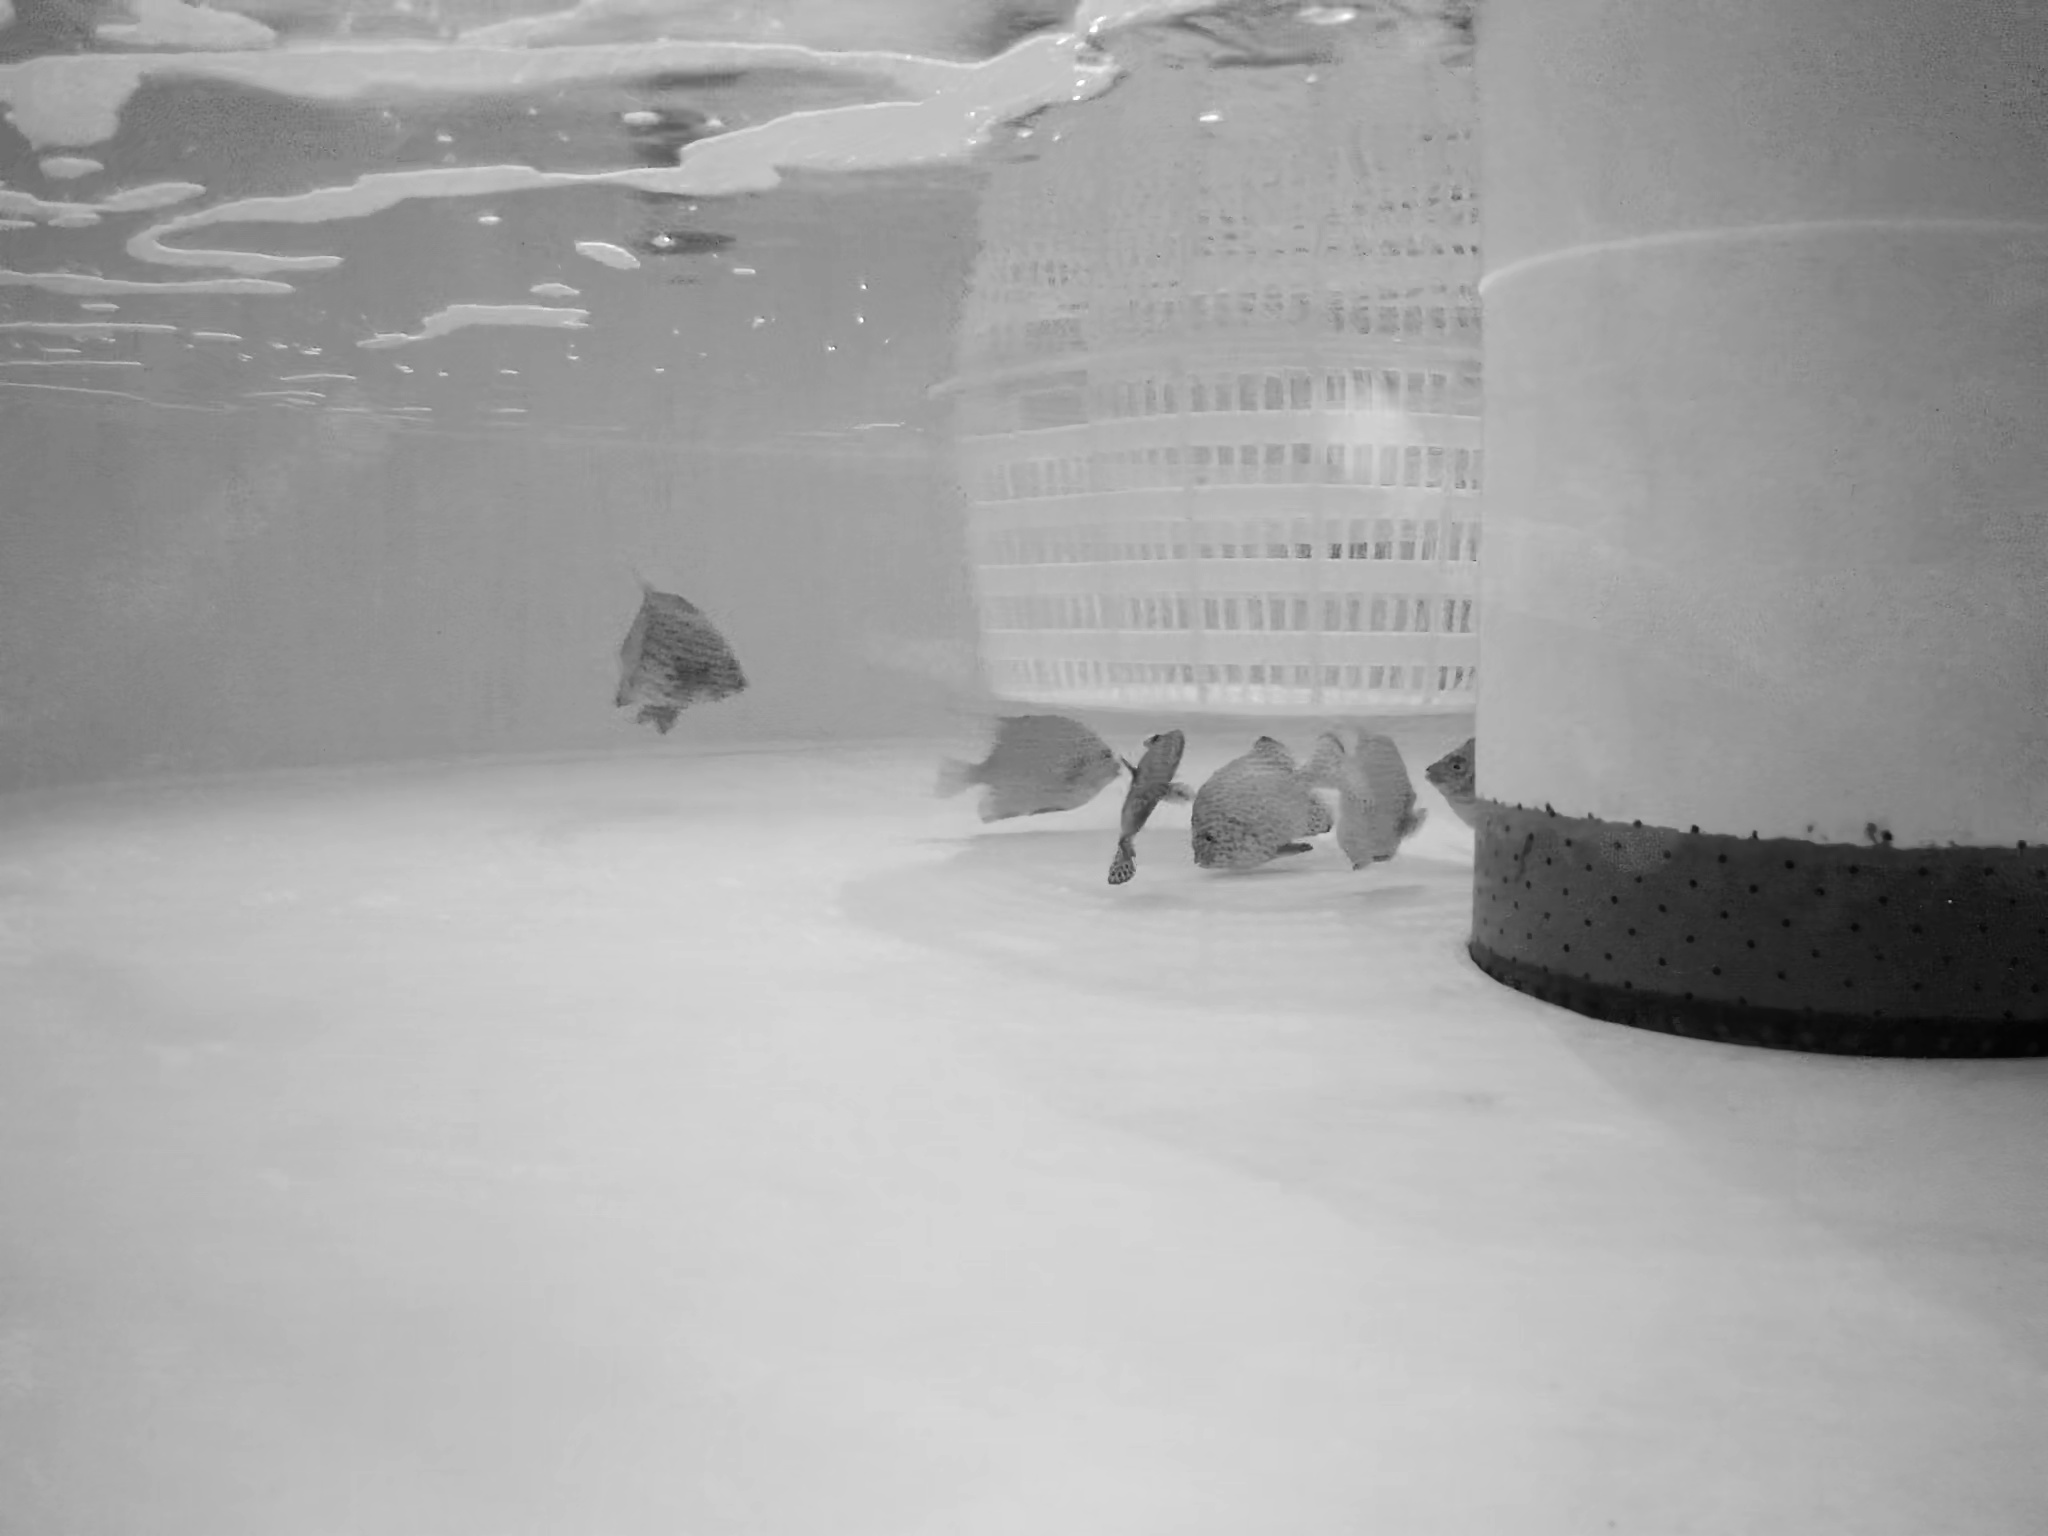fish: (1187, 731, 1345, 879), (940, 716, 1130, 831), (610, 582, 742, 726), (1101, 720, 1195, 886), (1335, 731, 1416, 879), (1429, 731, 1480, 833)
